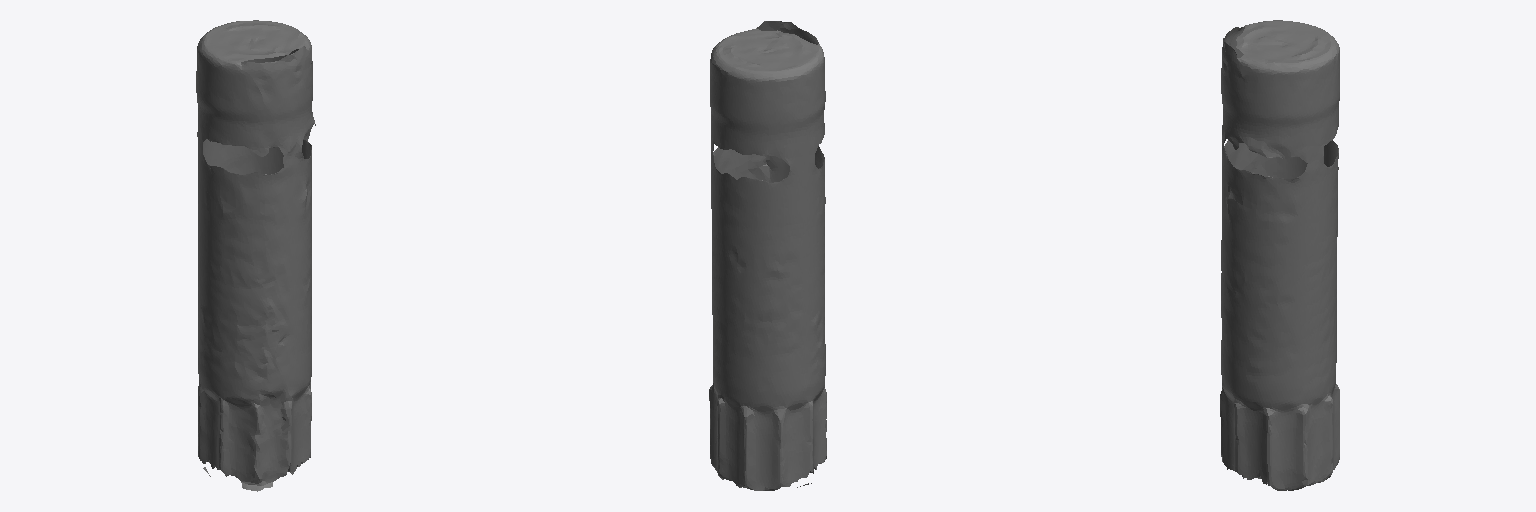
URDF robot description (object):
<?xml version="1.0"?>
<robot name="object">
  <link name="object">
    <visual>
      <origin xyz="0 0 0"/>
      <geometry>
        <mesh
          filename="../../mesh/oakink_virtual/marker_gluestick7.stl" />
      </geometry>
      <material name="mat">
        <color rgba="0.5 0.5 0.5 1"/>
      </material>
    </visual>

    <collision>
      <origin xyz="0 0 0"/>
      <geometry>
        <mesh
          filename="../../mesh/oakink_virtual/marker_gluestick7.stl" />
      </geometry>
    </collision>
  </link>
</robot>

--- Render facts (derived) ---
Views: 3 orthographic renders of the robot side by side, from view 1: azimuth 30°, elevation 25°; view 2: azimuth 150°, elevation 25°; view 3: azimuth 270°, elevation 25°.
Robot: object — 1 links, 0 joints (none); root link object; default pose: every joint at zero.
Links seen in each view (by area): view 1: object; view 2: object; view 3: object.
Link boxes in pixels (x1,y1,x2,y2): object: (196,20,315,491); object: (709,21,826,490); object: (1220,20,1339,490).
Bounding box of the posed robot: 0.0202 × 0.0206 × 0.0824 m (x, y, z).
Meshes: 1 distinct files referenced, 1 mesh visuals loaded (1 binary STL).